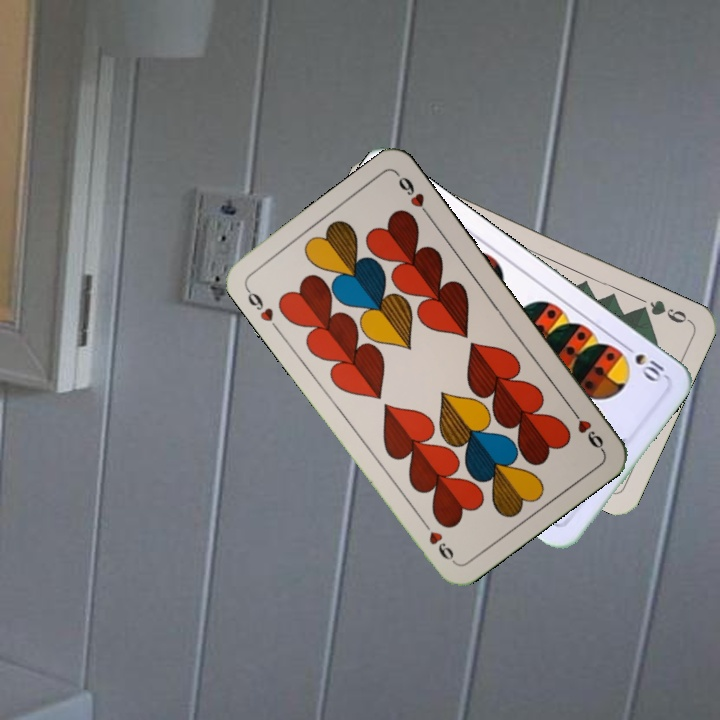G9: (633, 296, 693, 326)
H9: (566, 403, 606, 454), (241, 283, 276, 325)
S10: (618, 339, 669, 385)
